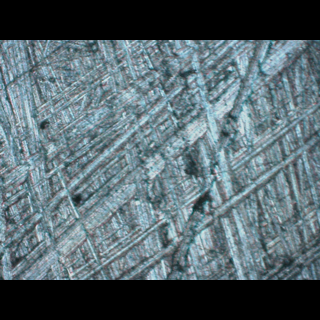d: (51, 44, 319, 280)
